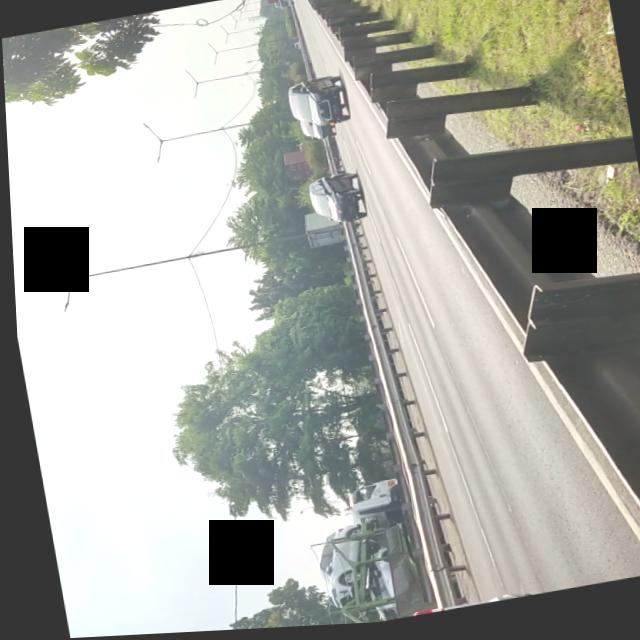Golongan I: (280, 73, 352, 137), (300, 167, 370, 232)
